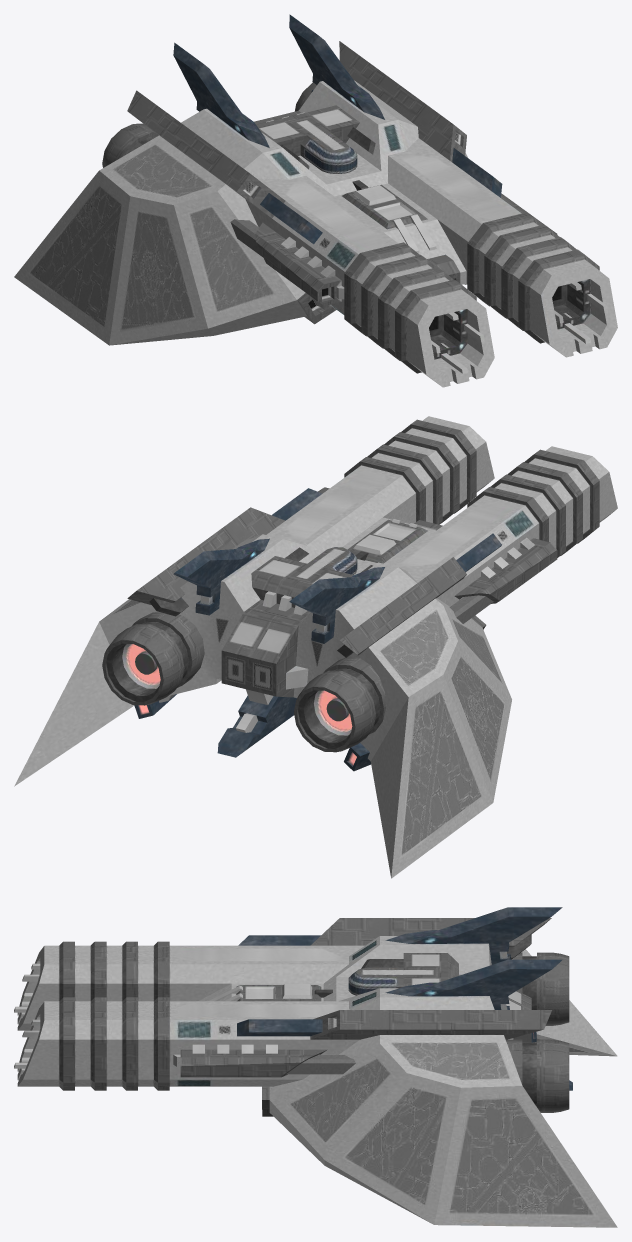
File: cruiser-0-3.glb
3 renders of one model, top to bottom at view 1: azimuth 30°, elevation 25°; view 2: azimuth 150°, elevation 25°; view 3: azimuth 270°, elevation 25°, orthographic. The views are drawn at different scales.
Parts seen in each view (by area): view 1: cruiser-0-3_0; view 2: cruiser-0-3_0; view 3: cruiser-0-3_0.
Part boxes in pixels (x1=…): cruiser-0-3_0: x1=14, y1=14, x2=617, y2=387; cruiser-0-3_0: x1=14, y1=416, x2=617, y2=878; cruiser-0-3_0: x1=14, y1=907, x2=617, y2=1227.
Size of the model in its own units: 0.6837 by 0.3814 by 1.
Materials: 1 (1 with a texture image).
